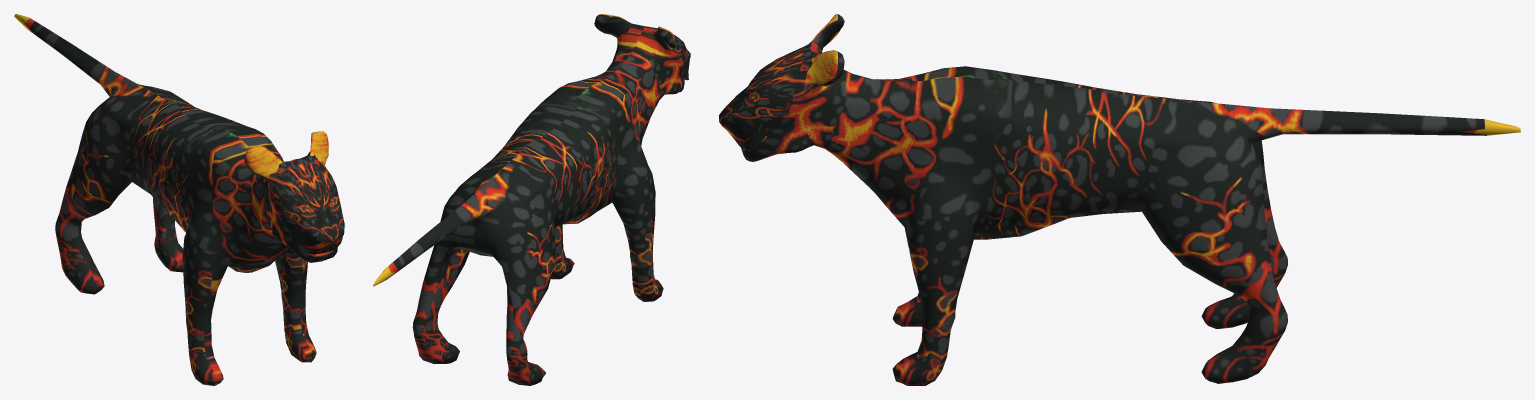
Rendered from JaguarBossModel.FBX.
3 renders of one model, left to right at view 1: azimuth 30°, elevation 25°; view 2: azimuth 150°, elevation 25°; view 3: azimuth 270°, elevation 25°, orthographic. The views are drawn at different scales.
Visible parts, largest first — view 1: Box001; view 2: Box001; view 3: Box001.
Boxes of the visible parts, x1=… form: Box001: x1=14, y1=14, x2=344, y2=385; Box001: x1=373, y1=14, x2=690, y2=385; Box001: x1=719, y1=14, x2=1520, y2=385.
Size of the model in its own units: 12.41 by 26.02 by 59.06.
Materials: 1 (1 with a texture image).
